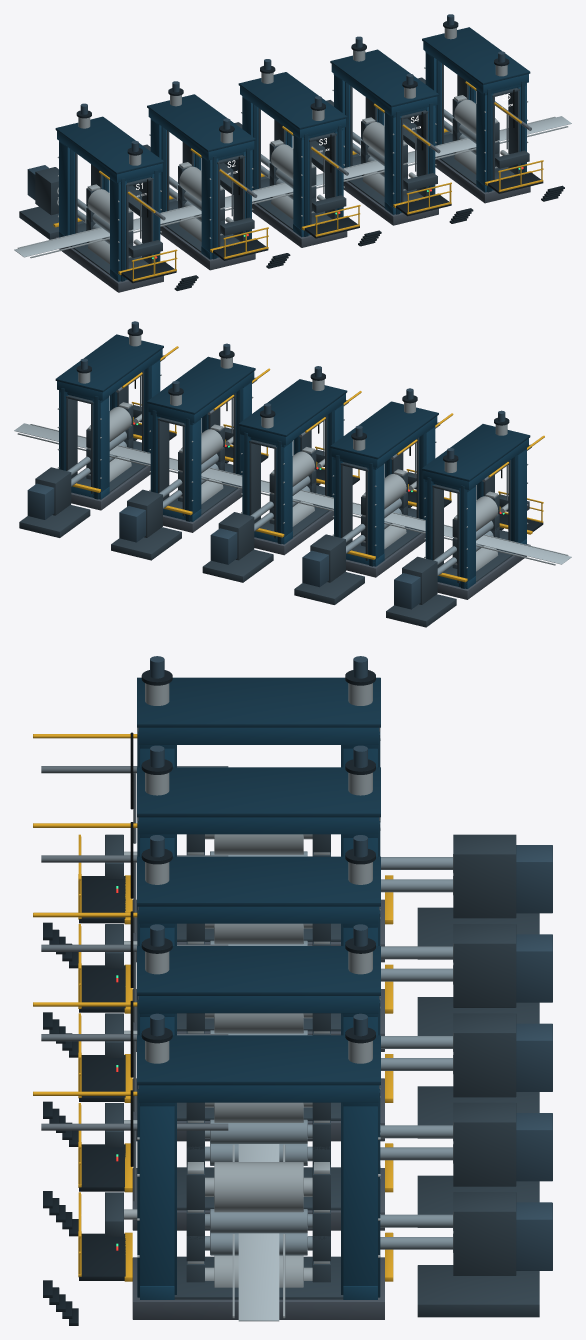
Rendered from mill_5stand_blender.glb.
3 views of the same model, one above another, from view 1: azimuth 30°, elevation 25°; view 2: azimuth 150°, elevation 25°; view 3: azimuth 270°, elevation 25° (orthographic). The views are drawn at different scales.
Parts seen in each view (by area): view 1: S4_Frame, Steel_Strip, S2_Frame, S5_Frame, S3_Frame, S1_Frame, S3_CrownCap, S4_CrownCap, S2_CrownCap, S5_CrownCap, S1_CrownCap, S1_DriveFrame (+39 smaller); view 2: S4_DriveFrame, S2_DriveFrame, S5_DriveFrame, S3_DriveFrame, S1_DriveFrame, Steel_Strip, S3_CrownCap, S4_CrownCap, S5_CrownCap, S1_CrownCap, S2_CrownCap, S1_Frame (+41 smaller); view 3: S2_CrownCap, S5_CrownCap, S3_CrownCap, S1_CrownCap, S4_CrownCap, S5_Frame, S5_DriveFrame, S5_DriveBed, S1_Gearbox, S3_Gearbox, S4_Gearbox, S2_Gearbox (+52 smaller).
Part boxes in pixels (bbox=[...]): S4_Frame: bbox=[384, 103, 436, 214]; Steel_Strip: bbox=[14, 116, 571, 257]; S2_Frame: bbox=[201, 147, 253, 259]; S5_Frame: bbox=[476, 80, 528, 192]; S3_Frame: bbox=[293, 125, 344, 237]; S1_Frame: bbox=[110, 170, 161, 281]; S3_CrownCap: bbox=[238, 72, 347, 129]; S4_CrownCap: bbox=[330, 49, 438, 107]; S2_CrownCap: bbox=[147, 94, 255, 151]; S5_CrownCap: bbox=[422, 27, 530, 84]; S1_CrownCap: bbox=[55, 116, 163, 174]; S1_DriveFrame: bbox=[57, 141, 109, 237]; S4_DriveFrame: bbox=[149, 410, 201, 521]; S2_DriveFrame: bbox=[332, 455, 384, 566]; S5_DriveFrame: bbox=[57, 388, 109, 499]; S3_DriveFrame: bbox=[241, 432, 292, 544]; S1_DriveFrame: bbox=[424, 477, 475, 588]; Steel_Strip: bbox=[14, 423, 571, 564]; S3_CrownCap: bbox=[238, 379, 347, 436]; S4_CrownCap: bbox=[147, 356, 255, 414]; S5_CrownCap: bbox=[55, 334, 163, 392]; S1_CrownCap: bbox=[422, 424, 530, 481]; S2_CrownCap: bbox=[330, 401, 438, 459]; S1_Frame: bbox=[476, 448, 528, 544]; S2_CrownCap: bbox=[137, 767, 380, 817]; S5_CrownCap: bbox=[137, 1035, 380, 1085]; S3_CrownCap: bbox=[137, 856, 380, 906]; S1_CrownCap: bbox=[137, 677, 380, 727]; S4_CrownCap: bbox=[137, 946, 380, 995]; S5_Frame: bbox=[137, 1085, 176, 1299]; S5_DriveFrame: bbox=[341, 1085, 380, 1299]; S5_DriveBed: bbox=[417, 1265, 539, 1317]; S1_Gearbox: bbox=[453, 834, 516, 918]; S3_Gearbox: bbox=[453, 1013, 516, 1097]; S4_Gearbox: bbox=[453, 1102, 516, 1186]; S2_Gearbox: bbox=[453, 924, 516, 1007].
Bounding box in the file's own units: 31.1 × 7.69 × 12.78.
